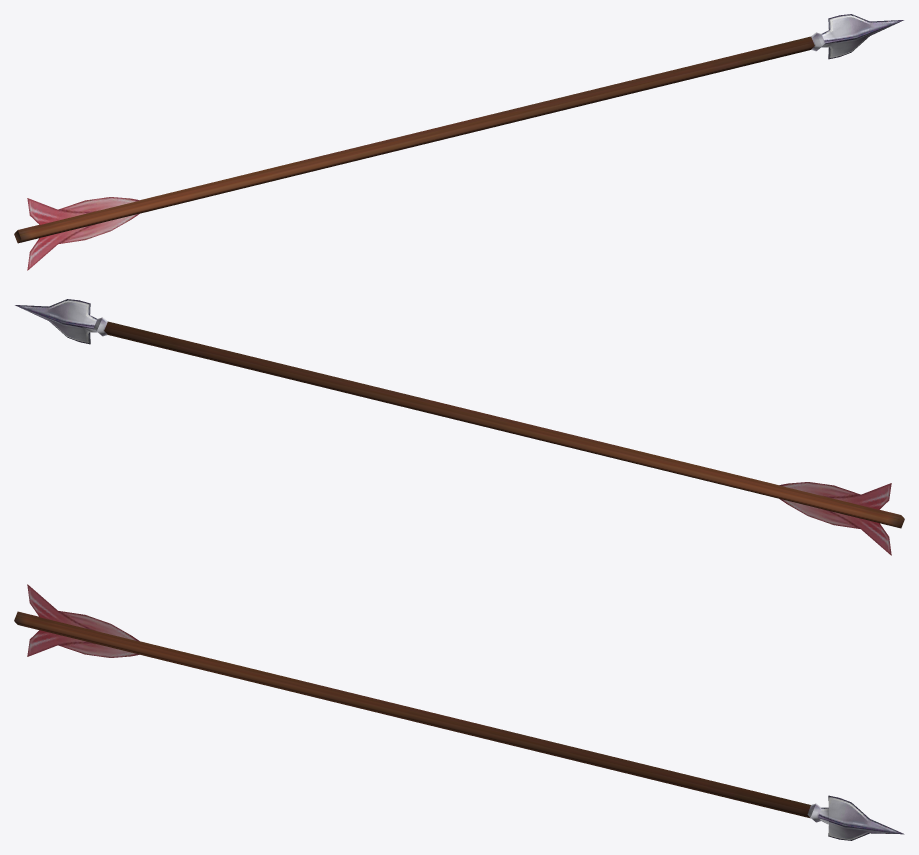
Rendered from Hero_Yanne_Cos18Summer_Arrow.fbx.
The picture shows the model from 3 angles, top to bottom: view 1: azimuth 30°, elevation 25°; view 2: azimuth 150°, elevation 25°; view 3: azimuth 330°, elevation 25°; orthographic projection.
Parts seen in each view (by area): view 1: Hero_Yanne_Cos18Summer_Arrow; view 2: Hero_Yanne_Cos18Summer_Arrow; view 3: Hero_Yanne_Cos18Summer_Arrow.
Part boxes in pixels (x1,y1,x2,y2): Hero_Yanne_Cos18Summer_Arrow: (14, 14, 903, 270); Hero_Yanne_Cos18Summer_Arrow: (15, 299, 904, 555); Hero_Yanne_Cos18Summer_Arrow: (14, 584, 904, 840).
Size of the model in its own units: 2.09 by 0.1642 by 0.0478.
1 material, 1 textured.
